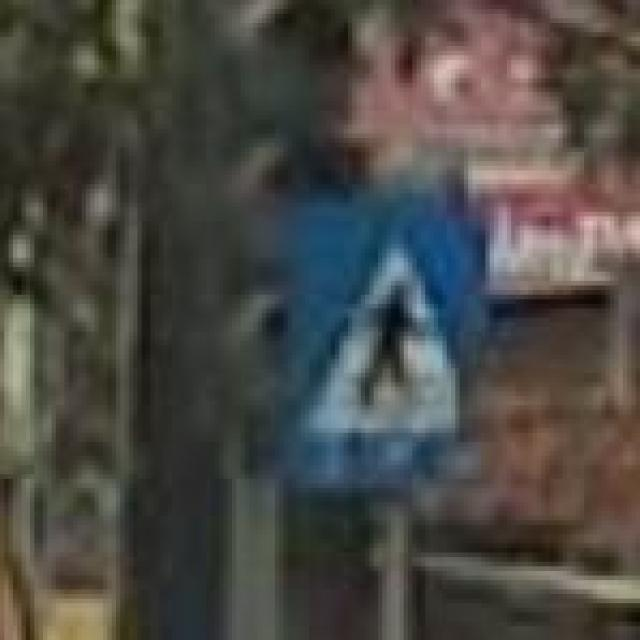traffic sign: (284, 198, 486, 492)
